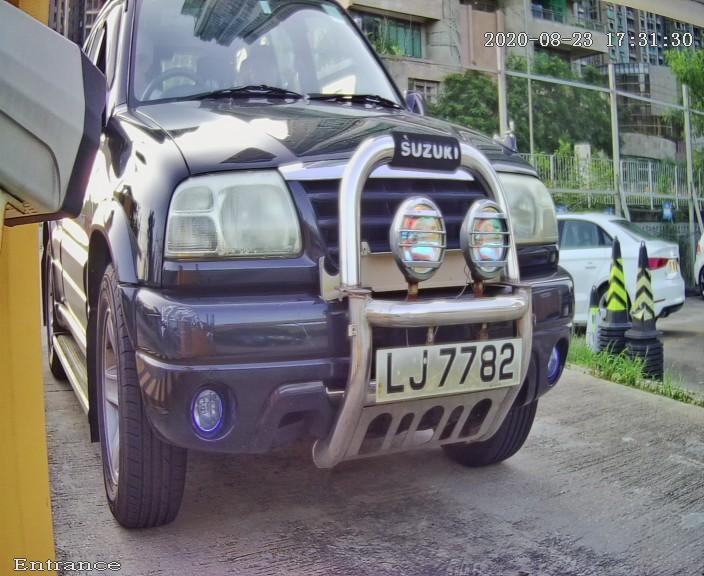Car: (38, 1, 588, 538)
License Plate: (349, 321, 544, 428)
